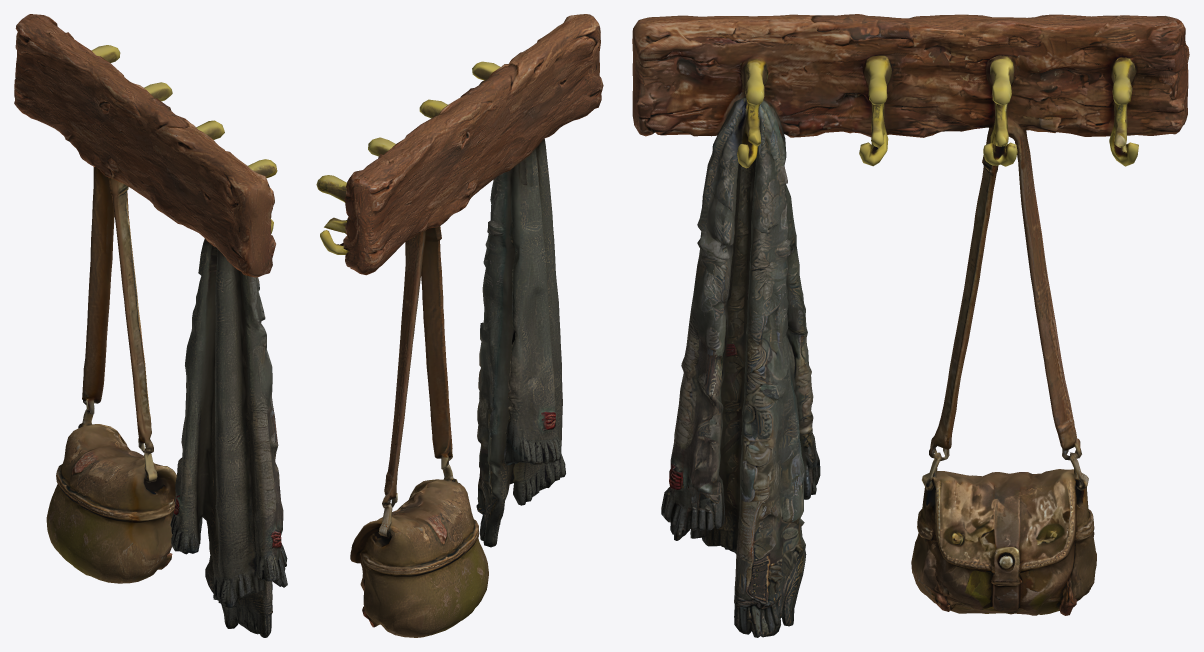
3 views of the same model, side by side, from view 1: azimuth 30°, elevation 25°; view 2: azimuth 150°, elevation 25°; view 3: azimuth 270°, elevation 25° (orthographic). The views are drawn at different scales.
Visible parts, largest first — view 1: tripo_node_a8cd04a4-3ce9-4426-a860-183d94913b5e; view 2: tripo_node_a8cd04a4-3ce9-4426-a860-183d94913b5e; view 3: tripo_node_a8cd04a4-3ce9-4426-a860-183d94913b5e.
Boxes of the visible parts, x1,y1,x2,y2 form: tripo_node_a8cd04a4-3ce9-4426-a860-183d94913b5e: (14,14,287,637); tripo_node_a8cd04a4-3ce9-4426-a860-183d94913b5e: (316,14,603,637); tripo_node_a8cd04a4-3ce9-4426-a860-183d94913b5e: (632,14,1189,637).
Bounding box in the file's own units: 0.2146 × 1 × 0.8529.
1 material, 1 textured.
